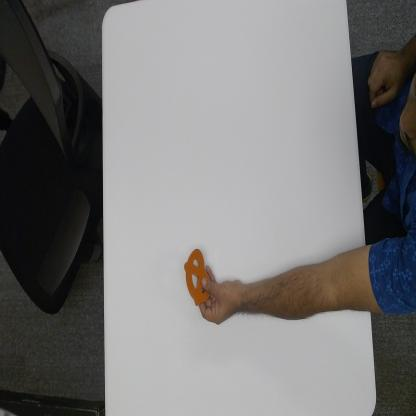Hand: (250, 226, 416, 330), (203, 270, 250, 328)
Pretzel: (184, 243, 215, 309)
